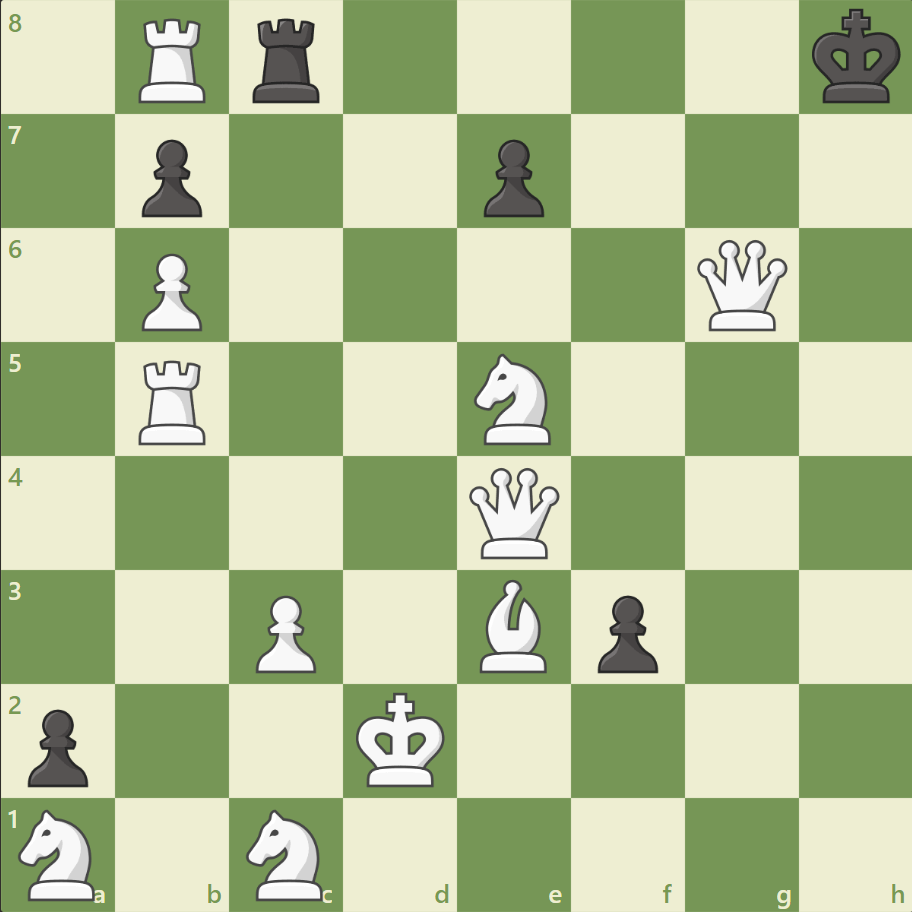B: (471, 574, 555, 676)
K: (351, 685, 451, 793)
N: (465, 348, 562, 450), (11, 802, 108, 904), (238, 802, 335, 904)
P: (133, 246, 208, 337), (247, 586, 322, 677)
Q: (691, 236, 790, 335), (464, 463, 563, 562)
R: (133, 12, 215, 109), (133, 352, 215, 449)
k: (806, 4, 906, 112)
p: (133, 132, 208, 223), (474, 132, 549, 223), (20, 700, 95, 791), (588, 586, 662, 677)
r: (246, 12, 329, 109)
